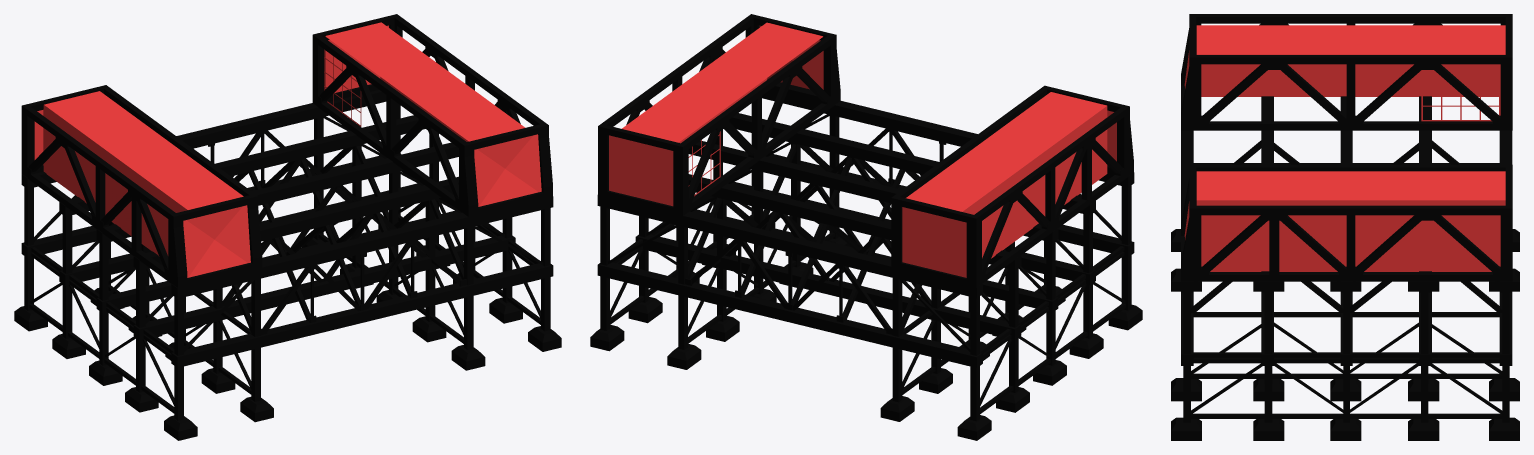
The model's file is Bottom_ApproachBig.FBX.
3 renders of one model, left to right at view 1: azimuth 30°, elevation 25°; view 2: azimuth 150°, elevation 25°; view 3: azimuth 270°, elevation 25°, orthographic. The views are drawn at different scales.
Parts seen in each view (by area): view 1: Bottom_ApproachBig; view 2: Bottom_ApproachBig; view 3: Bottom_ApproachBig.
Part boxes in pixels (<box>): Bottom_ApproachBig: <box>14,14,561,440</box>; Bottom_ApproachBig: <box>590,14,1142,440</box>; Bottom_ApproachBig: <box>1171,14,1519,440</box>.
Bounding box in the file's own units: 2075 × 1122 × 1540.
